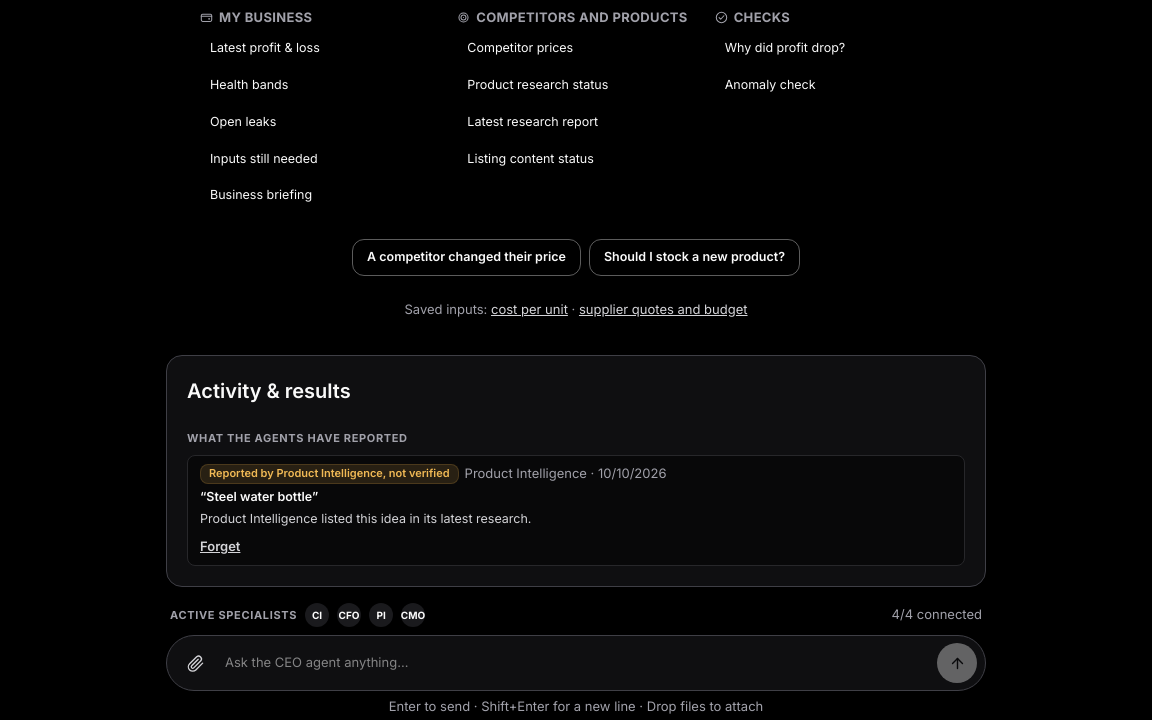
what the agents have reported › asks before forgetting, forgets only on confirmation, and then refreshes the list from the server
The width and height of the screenshot is (1152, 720).
(page scrolled)
What coordinates should you click on to do the following:
click the button with aria-label "Forget: Steel water bottle"
I would click on:
 (220, 547)
Its box is [200,537,240,557].
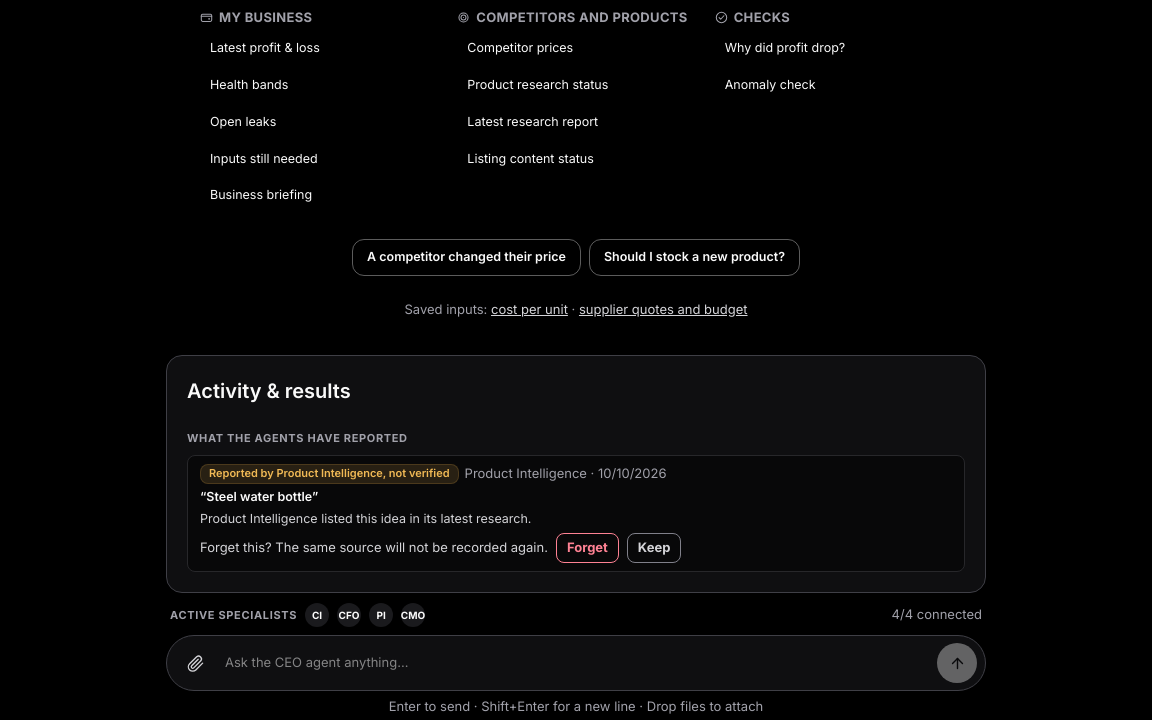
What coordinates should you click on to do the following:
click the button "Keep"
I would click on:
 (654, 548)
Its box is [627,533,681,563].
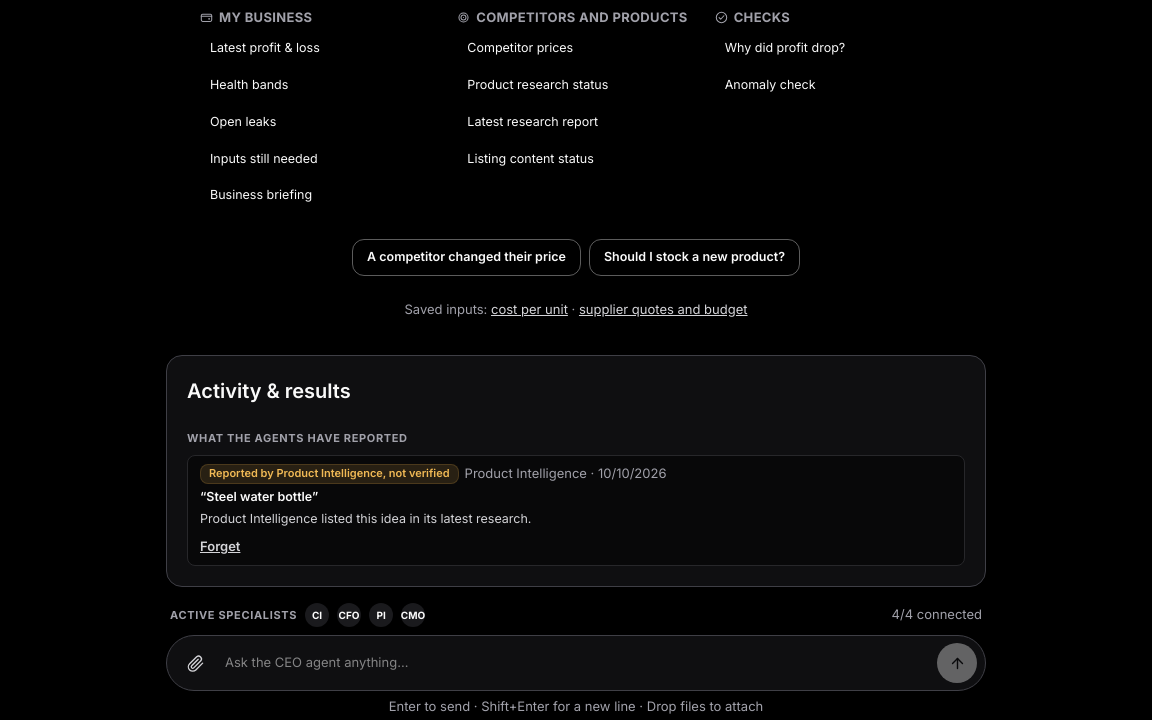
What coordinates should you click on to do the following:
click the button with aria-label "Forget: Steel water bottle"
I would click on:
 (220, 547)
Its box is [200,537,240,557].
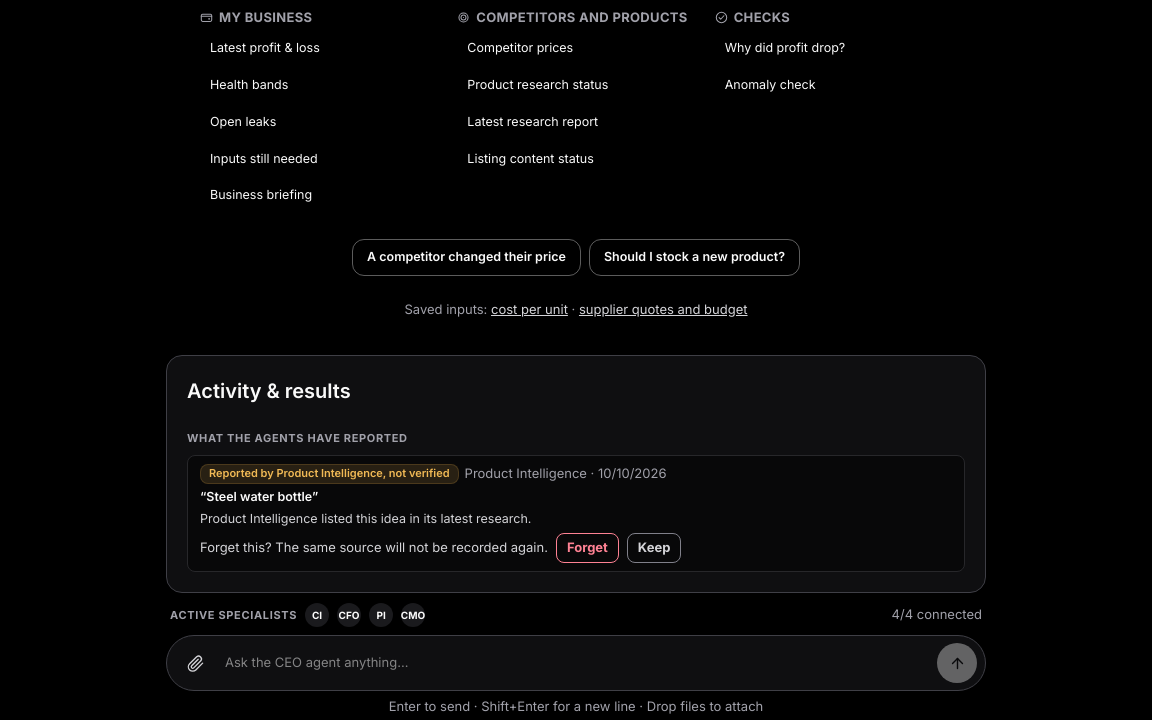
What coordinates should you click on to do the following:
click the button "Forget"
I would click on:
 (587, 548)
Its box is [556,533,619,563].
(page scrolled)
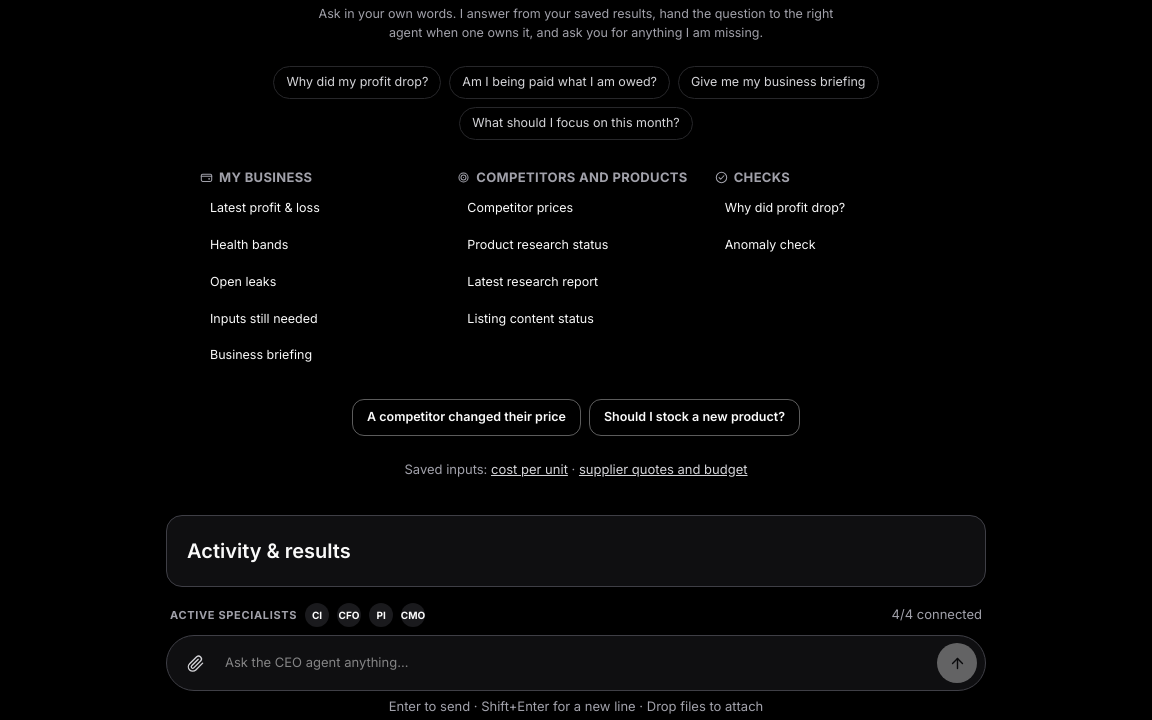
Expected: the list item with test id "shared-finding-f1" is gone
